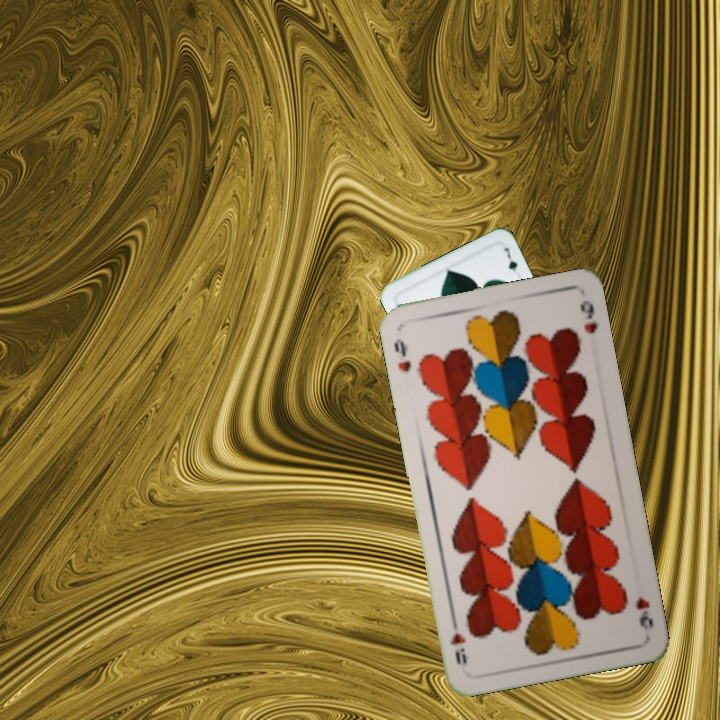H9: (389, 335, 414, 375), (631, 593, 656, 632)
